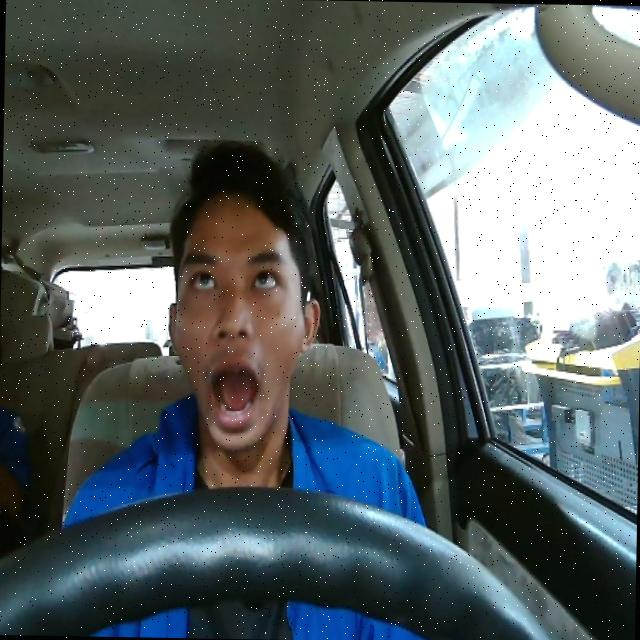yarning: (162, 187, 322, 451)
